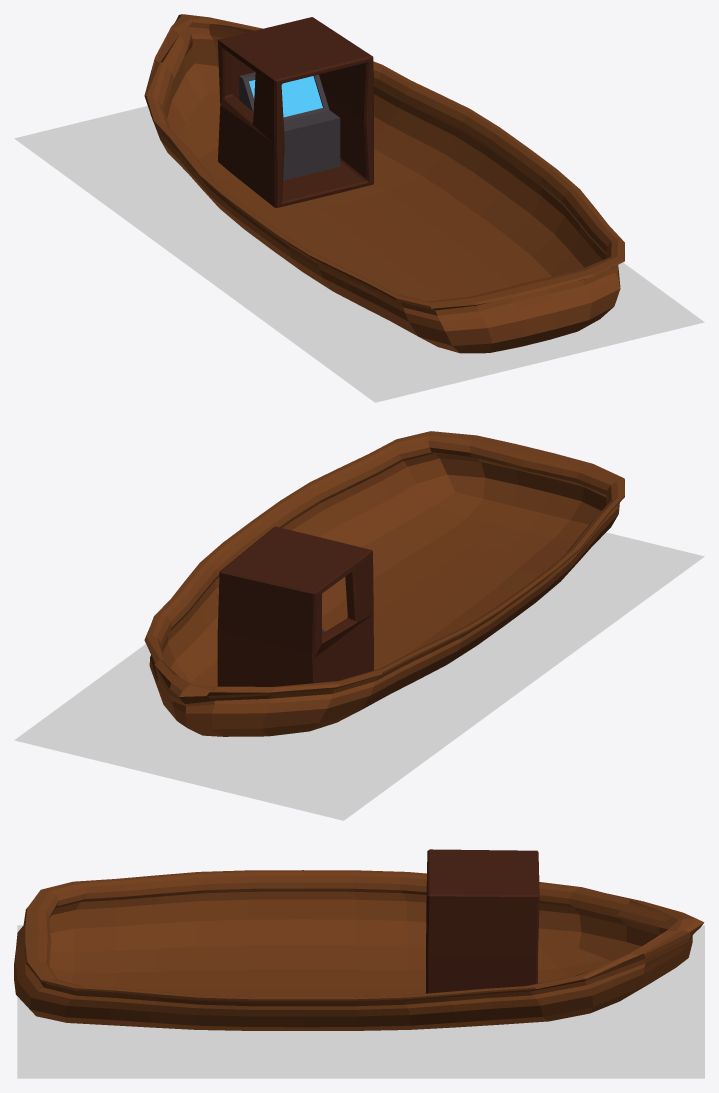
The model's file is boat2.glb.
3 views of the same model, one above another, from view 1: azimuth 30°, elevation 25°; view 2: azimuth 150°, elevation 25°; view 3: azimuth 270°, elevation 25° (orthographic). The views are drawn at different scales.
Parts seen in each view (by area): view 1: Plane, Plane.001, Cube, Cube.001; view 2: Plane, Plane.001, Cube; view 3: Plane, Plane.001, Cube.
Part boxes in pixels (x1=…): Plane: x1=144, y1=14, x2=624, y2=353; Plane.001: x1=14, y1=106, x2=704, y2=402; Cube: x1=217, y1=17, x2=373, y2=207; Cube.001: x1=239, y1=72, x2=340, y2=180; Plane: x1=144, y1=431, x2=624, y2=736; Plane.001: x1=14, y1=532, x2=704, y2=820; Cube: x1=217, y1=526, x2=373, y2=686; Plane: x1=14, y1=870, x2=704, y2=1030; Plane.001: x1=17, y1=925, x2=704, y2=1078; Cube: x1=426, y1=849, x2=539, y2=993.
Bounding box in the file's own units: 9.18 × 3.63 × 17.49.
